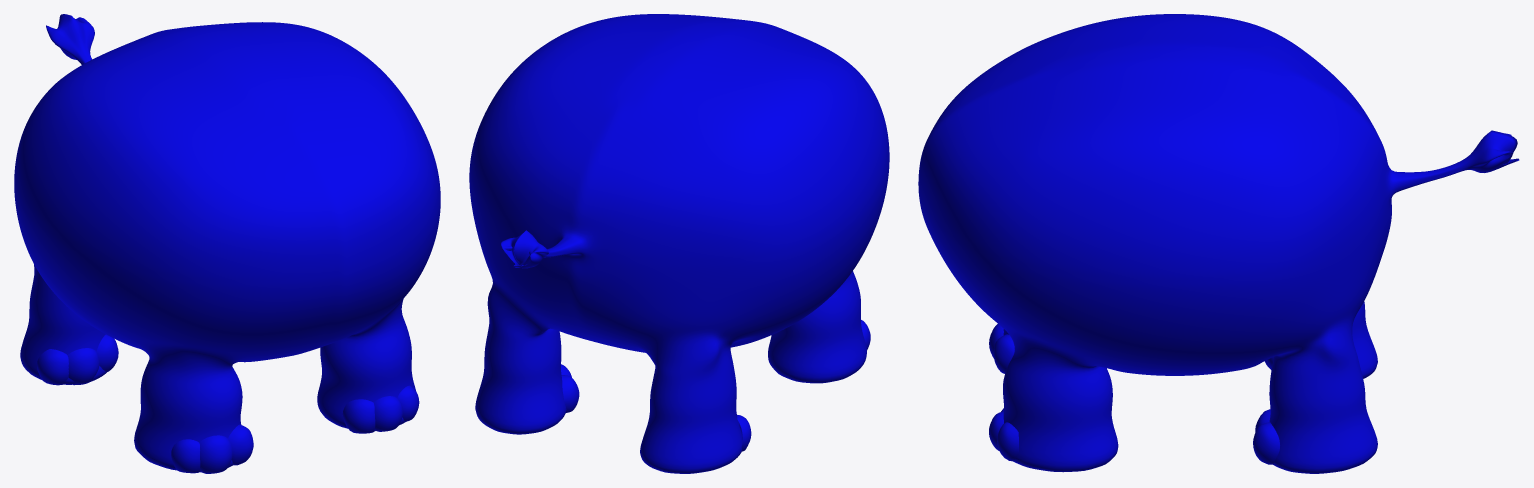
Rendered from zone4-rhino-blue.gltf.
The picture shows the model from 3 angles, left to right: view 1: azimuth 30°, elevation 25°; view 2: azimuth 150°, elevation 25°; view 3: azimuth 270°, elevation 25°; orthographic projection. The views are drawn at different scales.
Parts seen in each view (by area): view 1: Coprs-Pates; view 2: Coprs-Pates; view 3: Coprs-Pates.
Boxes of the visible parts, <box> form: Coprs-Pates: <box>14,14,440,473</box>; Coprs-Pates: <box>469,14,889,473</box>; Coprs-Pates: <box>918,14,1519,473</box>.
Bounding box in the file's own units: 2.61 × 2.43 × 3.66.
